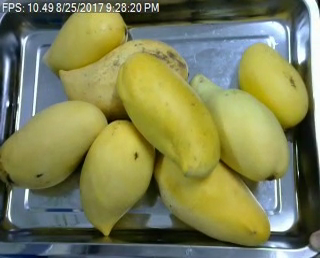Mango: (118, 53, 220, 181), (150, 143, 271, 246), (58, 39, 189, 124), (188, 73, 286, 182), (1, 100, 107, 187), (78, 121, 155, 235), (42, 1, 127, 79), (239, 43, 310, 127)
